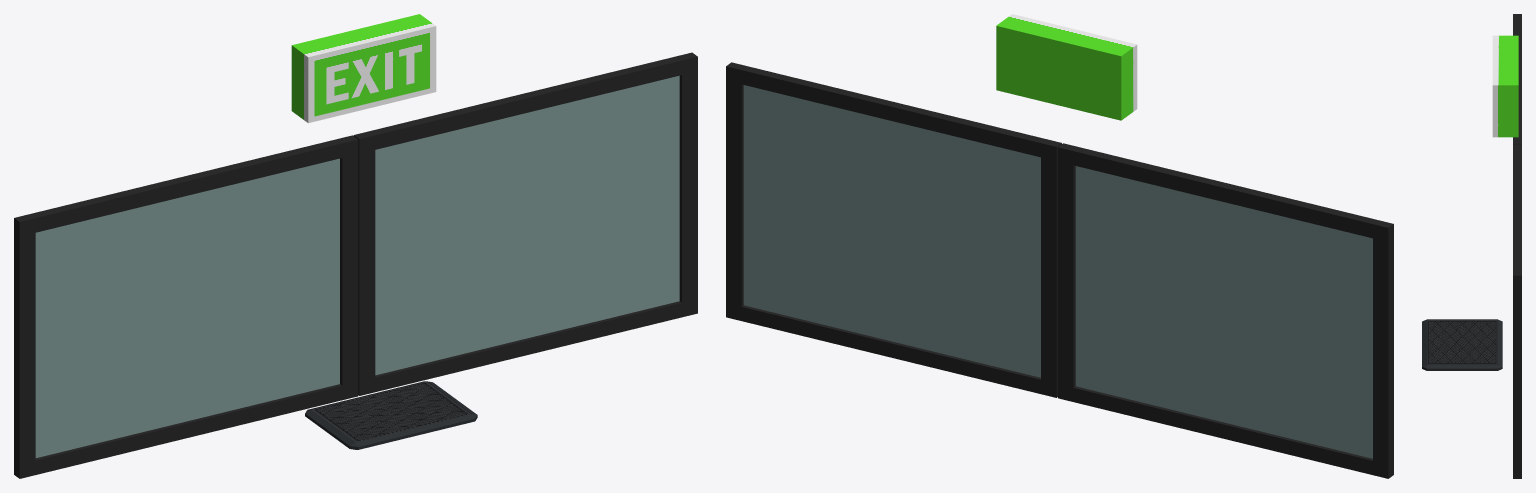
Rendered from EXIT 1.fbx.
3 renders of one model, left to right at view 1: azimuth 30°, elevation 25°; view 2: azimuth 150°, elevation 25°; view 3: azimuth 270°, elevation 25°, orthographic. The views are drawn at different scales.
Visible parts, largest first — view 1: polySurface3, polySurface2, polySurface1, polySurface4, pCube5, pCube4; view 2: polySurface2, polySurface3, polySurface1, polySurface4, pCube5; view 3: pCube4, polySurface4, pCube5, polySurface1.
Part boxes in pixels (<box>): polySurface3: <box>375,75,679,375</box>; polySurface2: <box>35,158,339,457</box>; polySurface1: <box>14,135,358,478</box>; polySurface4: <box>353,52,697,395</box>; pCube5: <box>291,14,436,123</box>; pCube4: <box>305,381,477,449</box>; polySurface2: <box>1075,166,1372,458</box>; polySurface3: <box>743,85,1040,377</box>; polySurface1: <box>1058,143,1393,478</box>; polySurface4: <box>726,62,1061,397</box>; pCube5: <box>996,14,1137,120</box>; pCube4: <box>1422,319,1502,370</box>; polySurface4: <box>1513,145,1521,478</box>; pCube5: <box>1492,35,1518,137</box>; polySurface1: <box>1513,14,1521,144</box>.
Bounding box in the file's own units: 16.72 × 8.58 × 2.69.
4 materials, 2 textured.
